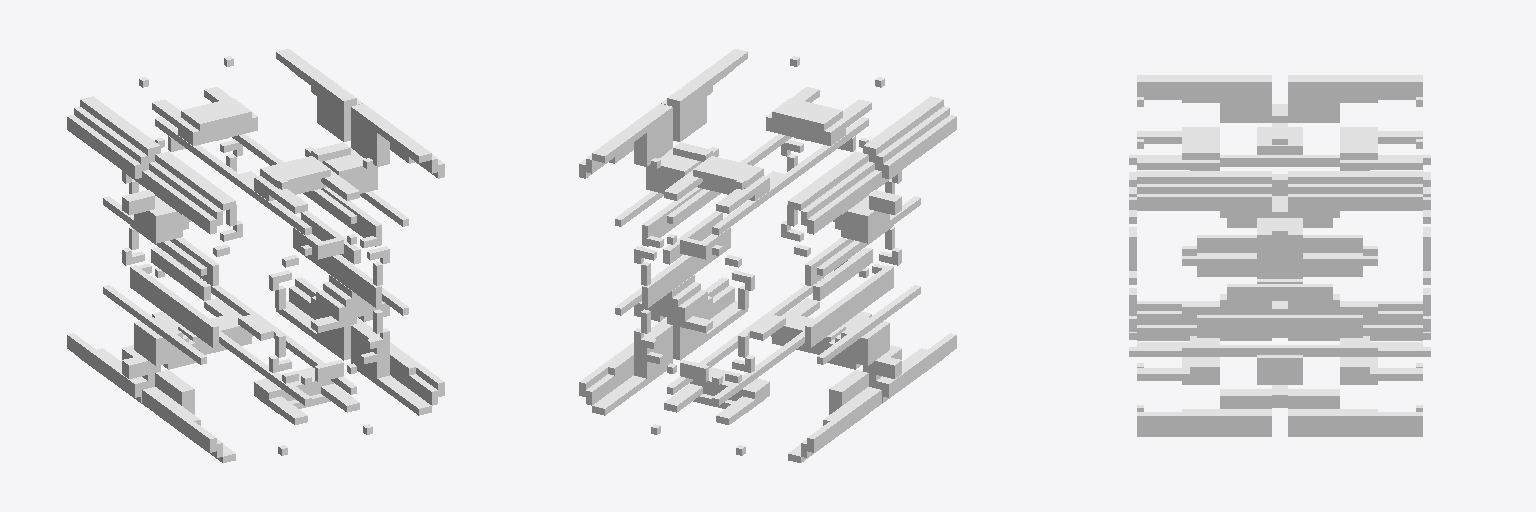
The model's file is thing3.obj.
The picture shows the model from 3 angles: view 1: azimuth 30°, elevation 25°; view 2: azimuth 150°, elevation 25°; view 3: azimuth 270°, elevation 25°; orthographic projection.
Parts seen in each view (by area): view 1: object 1; view 2: object 1; view 3: object 1.
Boxes of the visible parts, box(x1,y1,x2,y2) form: object 1: box(67, 49, 444, 462); object 1: box(579, 49, 956, 462); object 1: box(1129, 75, 1430, 436).
Size of the model in its own units: 4 by 4 by 4.